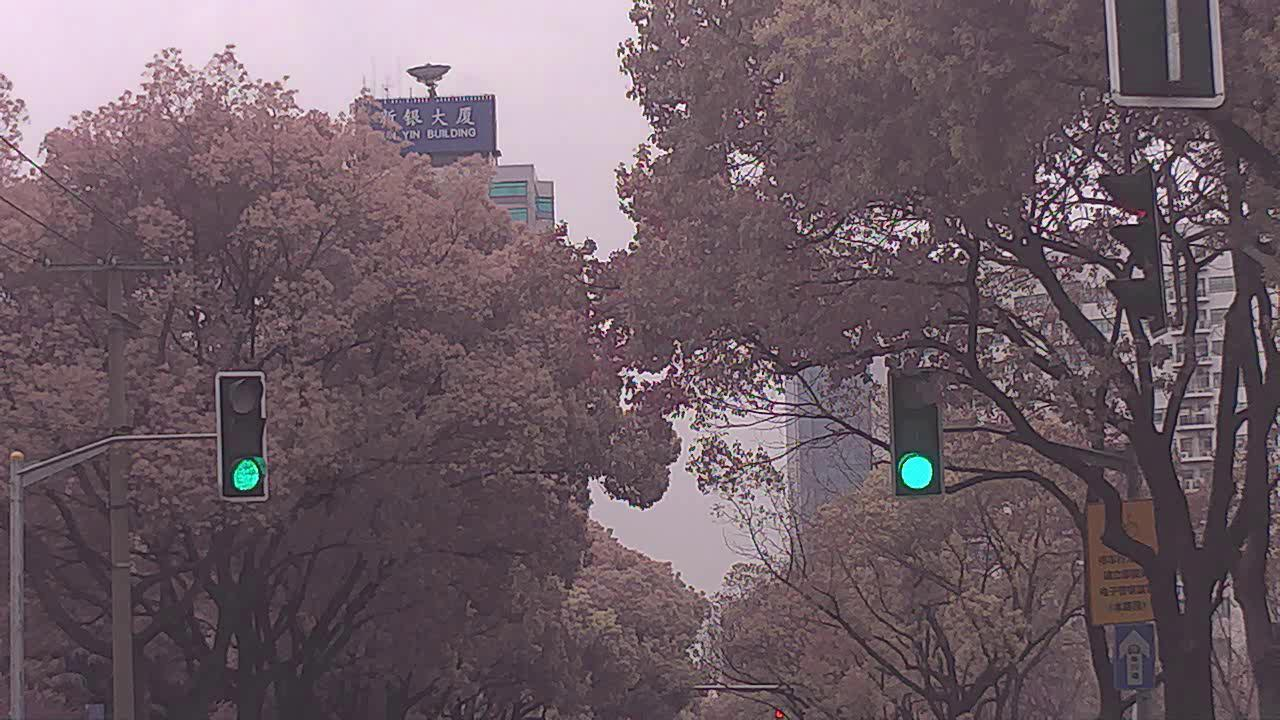traffic_light: (888, 369, 945, 497), (219, 372, 267, 503)
